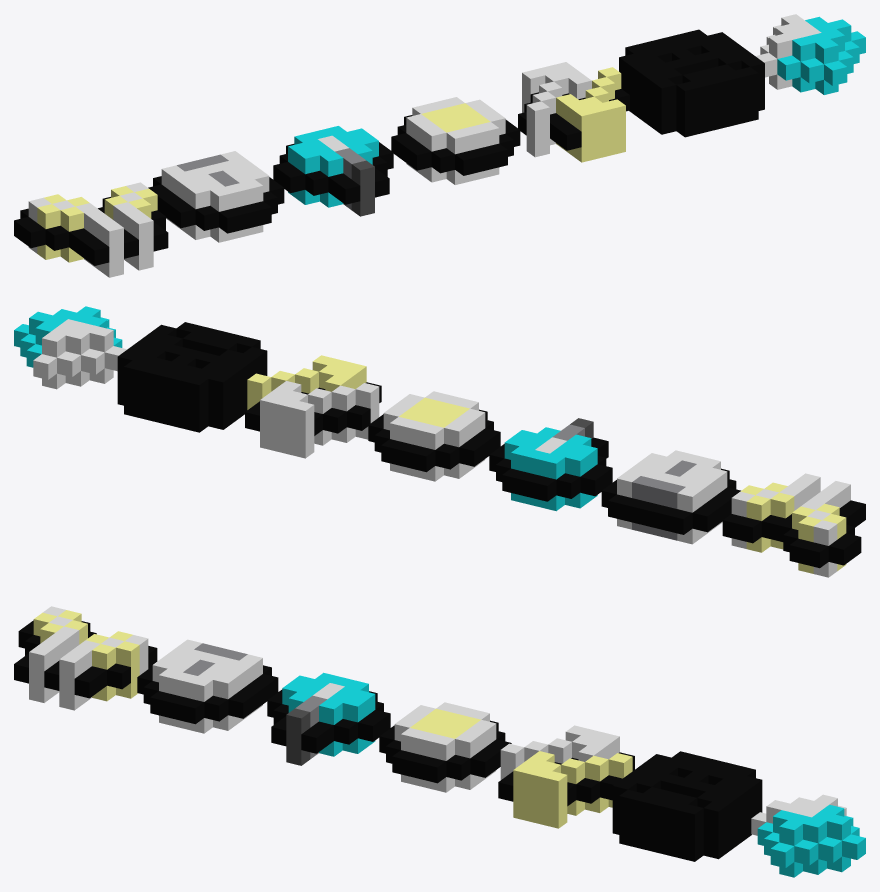
File: city_resources.glb
3 views of the same model, one above another, from view 1: azimuth 30°, elevation 25°; view 2: azimuth 150°, elevation 25°; view 3: azimuth 330°, elevation 25° (orthographic). The views are drawn at different scales.
Parts seen in each view (by area): view 1: corruption, food, trade, shields, gold, science, luxuries; view 2: corruption, trade, food, shields, gold, science, luxuries; view 3: corruption, food, trade, shields, gold, science, luxuries.
Boxes of the visible parts, x1,y1,x2,y2 form: corruption: [619, 29, 764, 137]; food: [14, 182, 168, 277]; trade: [518, 62, 629, 162]; shields: [148, 151, 284, 242]; gold: [391, 97, 520, 184]; science: [273, 126, 393, 216]; luxuries: [755, 14, 865, 94]; corruption: [117, 322, 267, 432]; trade: [245, 355, 381, 458]; food: [722, 473, 865, 577]; shields: [601, 450, 740, 544]; gold: [368, 391, 500, 481]; science: [489, 418, 612, 511]; luxuries: [14, 306, 126, 389]; corruption: [612, 751, 762, 861]; food: [14, 606, 157, 710]; trade: [498, 725, 634, 828]; shields: [137, 639, 278, 733]; gold: [379, 702, 511, 792]; science: [267, 672, 390, 765]; luxuries: [751, 794, 865, 877].
Size of the model in its own units: 3.5 by 0.1875 by 0.4375.
Materials: 1 (1 with a texture image).
